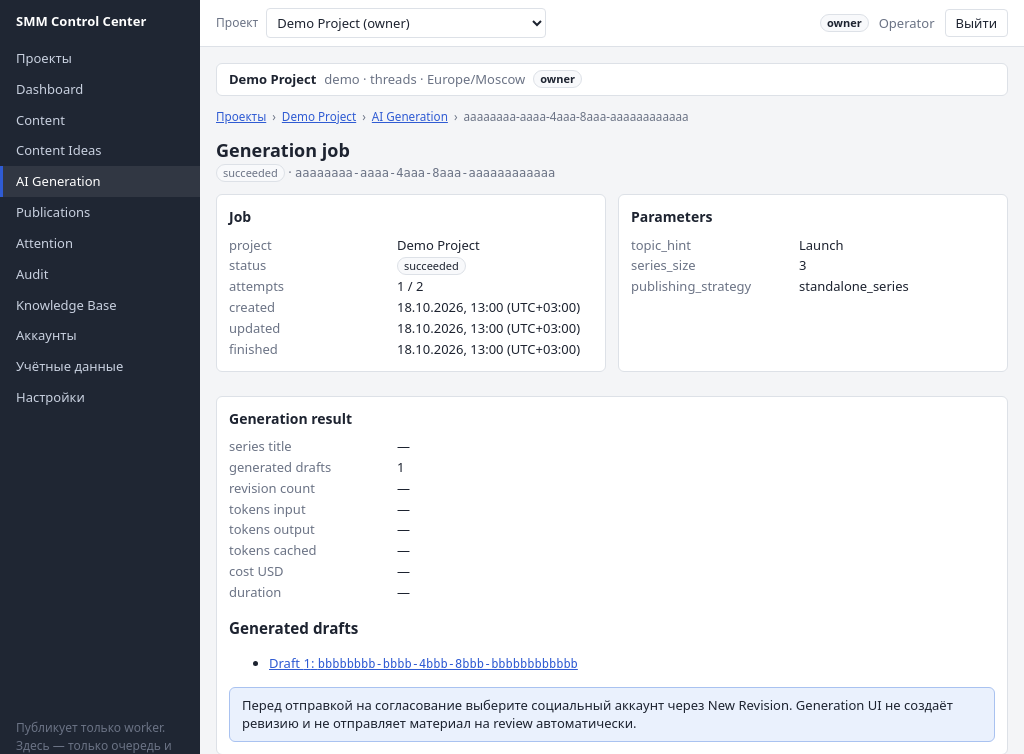
generation job detail › opens the existing content detail with editor verdict and revision history
Check: the text "Перед отправкой на согласование" is shown, box [242,696,953,732]
Click the link "Draft 1: bbbbbbbb-bbbb-4bbb-8bbb-bbbbbbbbbbbb": (423, 663) [269,654,578,672]
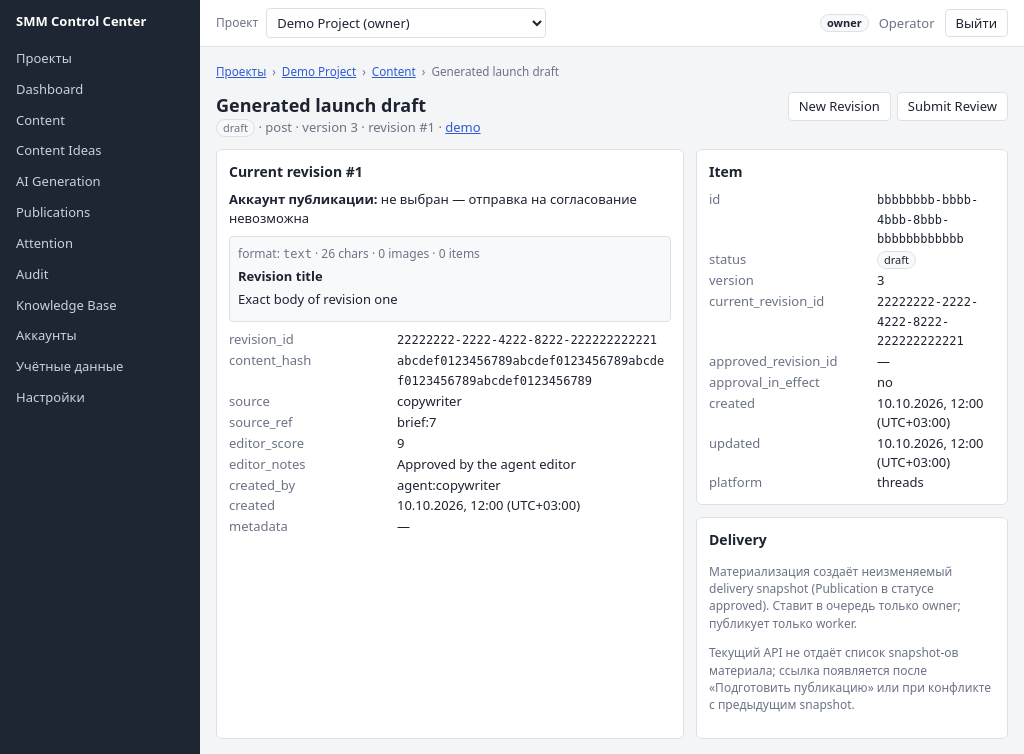
Check: the heading "Generated launch draft" is shown, box [216,93,426,117]
Check: the text "copywriter" is shown, box [397,392,462,410]
Check: the text "9" is shown, box [397,434,404,452]
